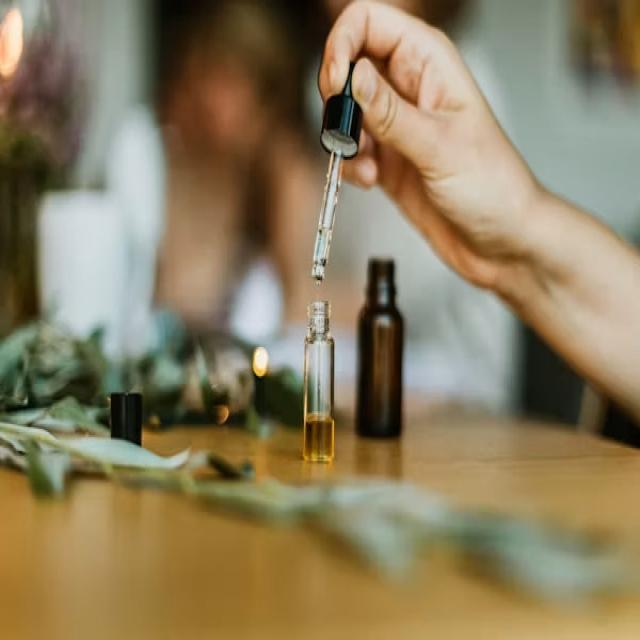Bottle: (356, 260, 403, 436), (303, 301, 334, 462)
